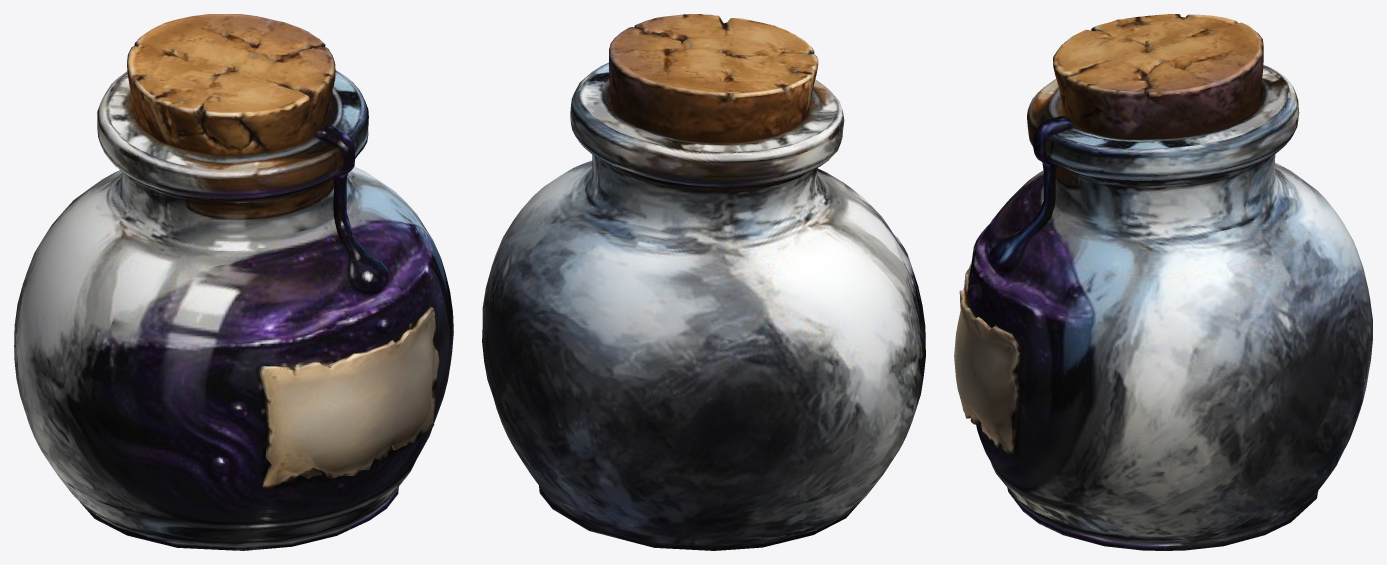
The model's file is prop_inkbottle.glb.
3 views of the same model, side by side, from view 1: azimuth 30°, elevation 25°; view 2: azimuth 150°, elevation 25°; view 3: azimuth 270°, elevation 25° (orthographic).
Parts seen in each view (by area): view 1: tripo_node_cfce6040-9071-4943-a0d1-036b24b7c0ec; view 2: tripo_node_cfce6040-9071-4943-a0d1-036b24b7c0ec; view 3: tripo_node_cfce6040-9071-4943-a0d1-036b24b7c0ec.
Part boxes in pixels (x1,y1,x2,y2): tripo_node_cfce6040-9071-4943-a0d1-036b24b7c0ec: (14,14,453,550); tripo_node_cfce6040-9071-4943-a0d1-036b24b7c0ec: (482,14,925,550); tripo_node_cfce6040-9071-4943-a0d1-036b24b7c0ec: (954,14,1372,550).
Size of the model in its own units: 0.9491 by 1 by 0.8787.
Materials: 1 (1 with a texture image).
